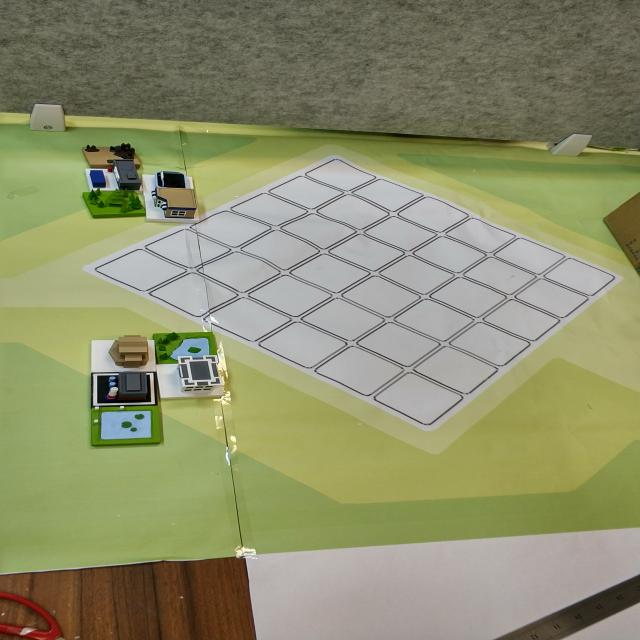bus_stop: (85, 163, 148, 190)
factory: (86, 373, 161, 409)
fish_pool: (90, 406, 178, 452)
forest: (74, 188, 148, 225)
gogo_shop: (138, 168, 195, 190)
research_build: (158, 356, 236, 402)
restaurant: (147, 187, 220, 225)
silicate_rock: (75, 137, 147, 170)
volunteer_center: (82, 331, 158, 373)
wet_land: (149, 327, 227, 364)
